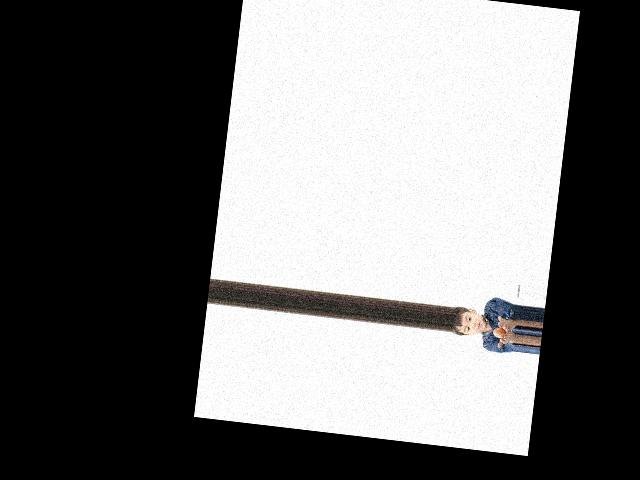egg: (492, 326, 506, 338)
